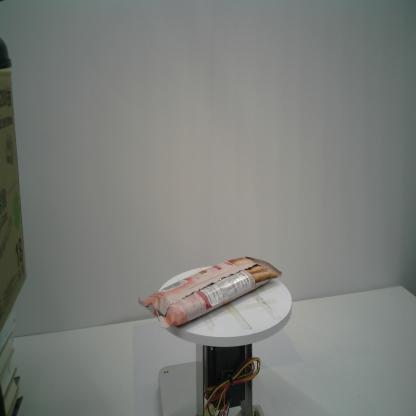Dessert: (135, 255, 283, 330)
